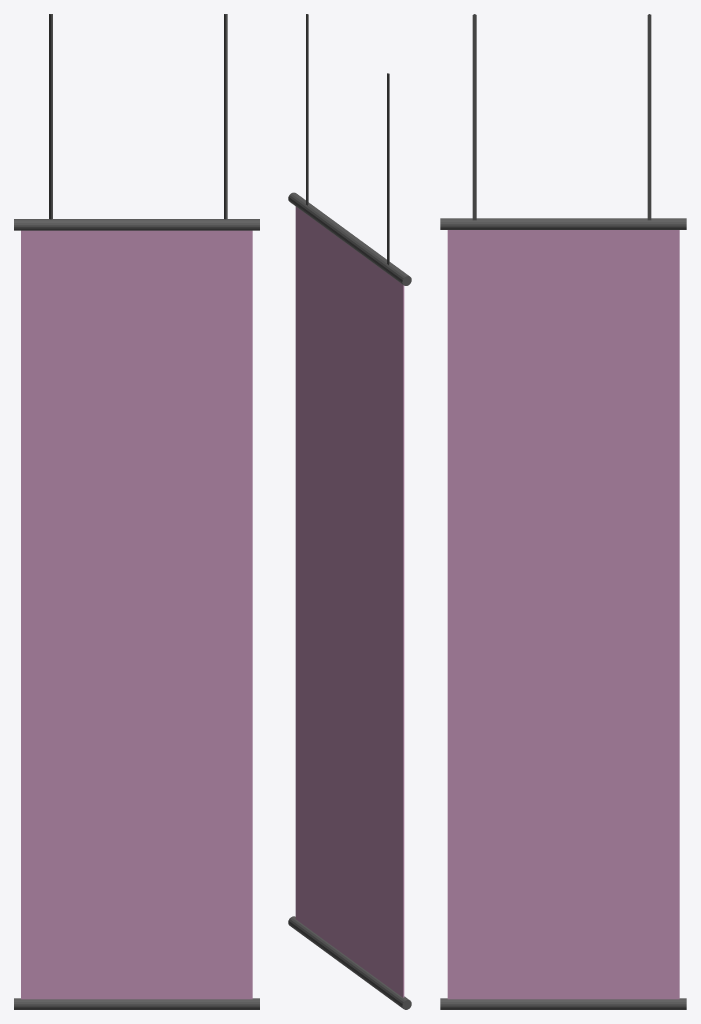
The model's file is Banner.fbx.
3 renders of one model, left to right at view 1: azimuth 90°, elevation 25°; view 2: azimuth 210°, elevation 25°; view 3: azimuth 270°, elevation 25°, orthographic. The views are drawn at different scales.
Parts seen in each view (by area): view 1: SM_banner; view 2: SM_banner; view 3: SM_banner.
Part boxes in pixels (x1,y1,x2,y2): SM_banner: [14, 14, 259, 1009]; SM_banner: [288, 14, 411, 1009]; SM_banner: [440, 14, 686, 1009].
Size of the model in its own units: 7.6 by 710 by 159.
